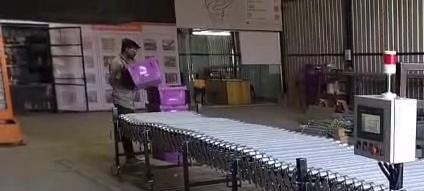box: (127, 58, 164, 87), (159, 86, 188, 110)
